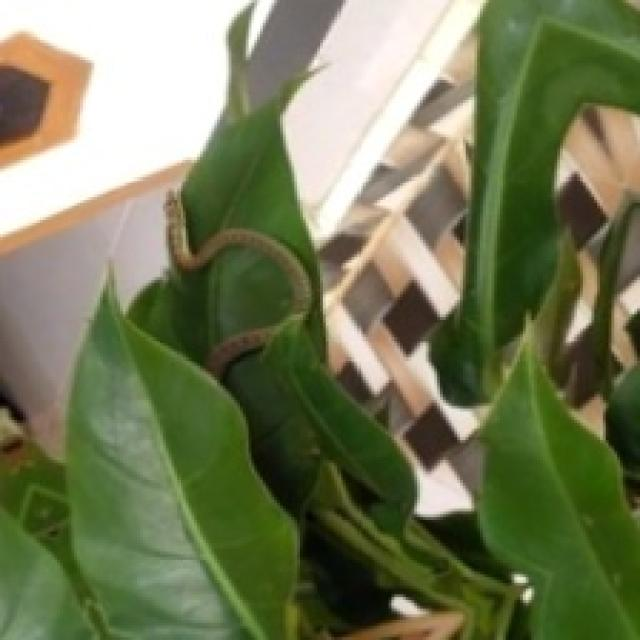paradise tree snake: (166, 194, 514, 637), (166, 191, 309, 311)
